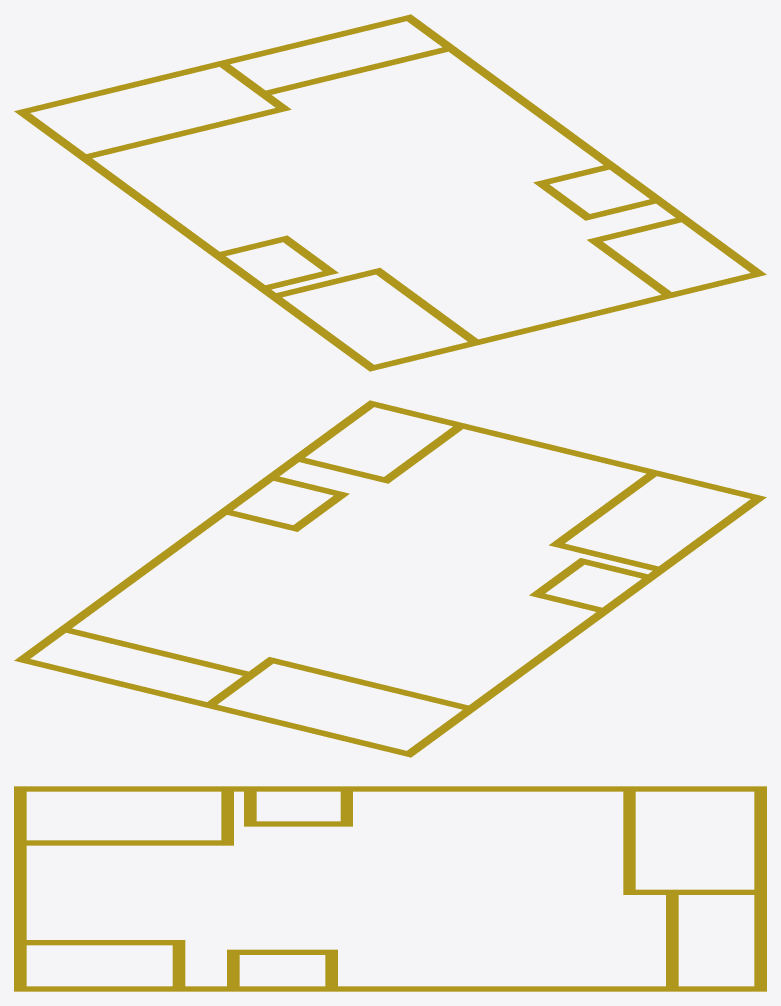
Rendered from CK_dimian_huangxian.FBX.
The picture shows the model from 3 angles, top to bottom: view 1: azimuth 30°, elevation 25°; view 2: azimuth 150°, elevation 25°; view 3: azimuth 270°, elevation 25°; orthographic projection. The views are drawn at different scales.
Visible parts, largest first — view 1: CK_dimian_huangxian; view 2: CK_dimian_huangxian; view 3: CK_dimian_huangxian.
Part boxes in pixels (left/top/right/bottom): CK_dimian_huangxian: left=14, top=14, right=766, bottom=371; CK_dimian_huangxian: left=14, top=400, right=766, bottom=757; CK_dimian_huangxian: left=14, top=786, right=766, bottom=991.
Size of the model in its own units: 580 by 6.85e-06 by 900.
